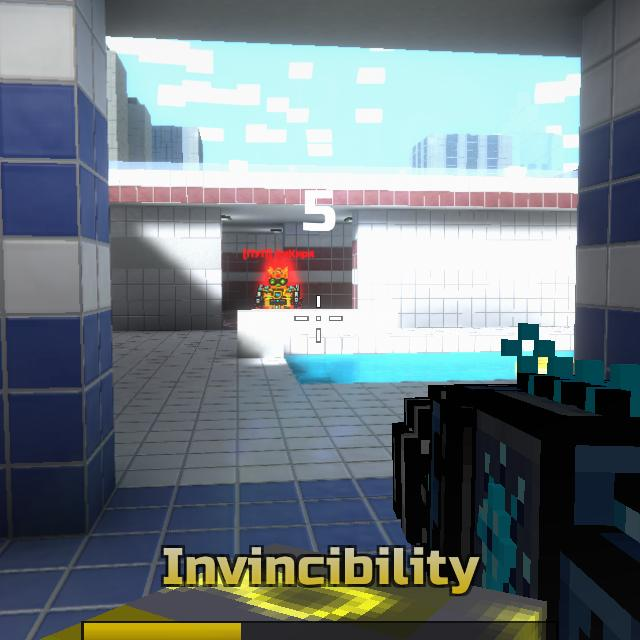Enemy: (258, 269, 300, 308)
